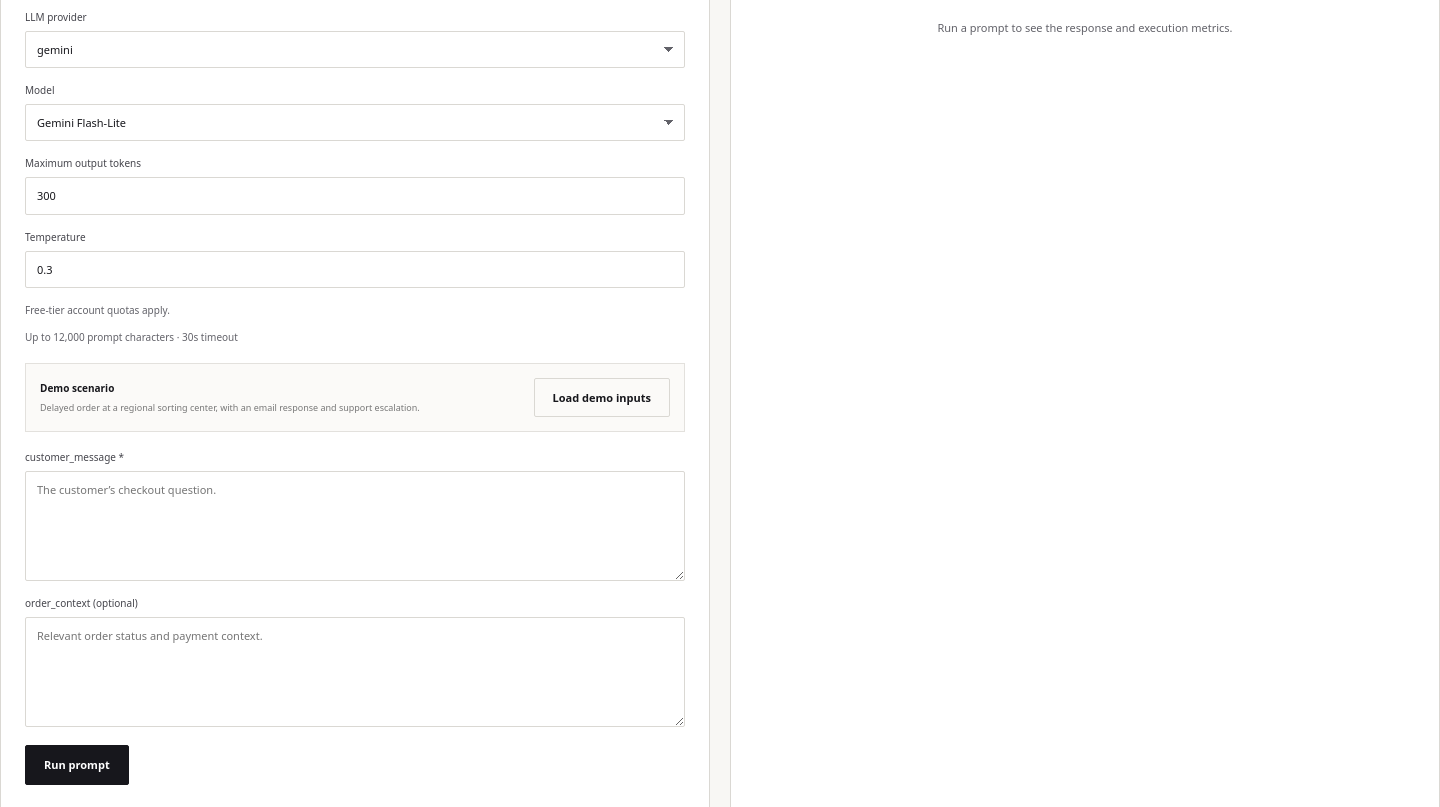
it: Playground run states › shows provider failure without charging
(page scrolled)
Type "Please check my order" into the text box labelled "customer_message *" at (355, 526), box [25,471,685,581]
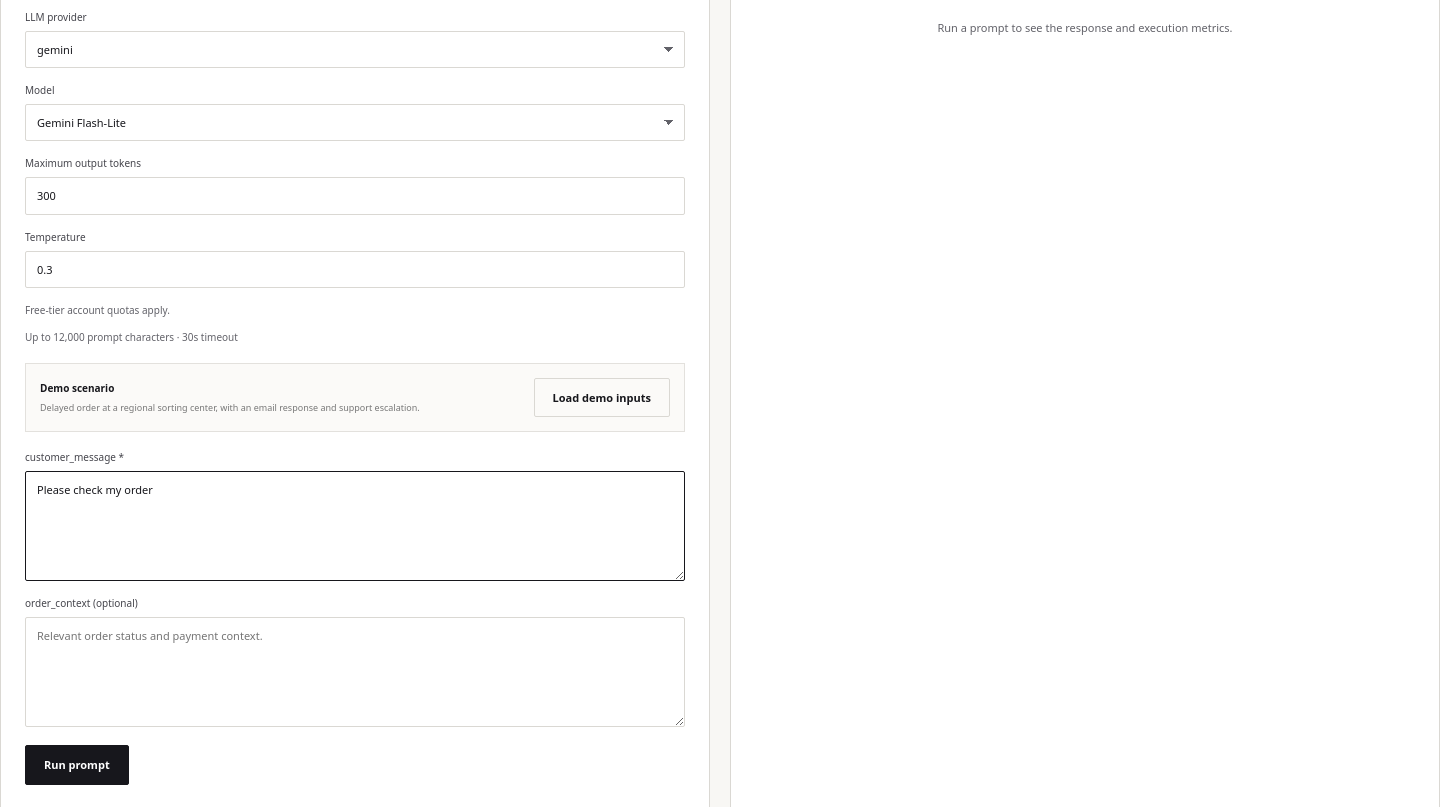
Click the button "Run prompt" at (77, 765), box [25,745,129,785]
(page scrolled)
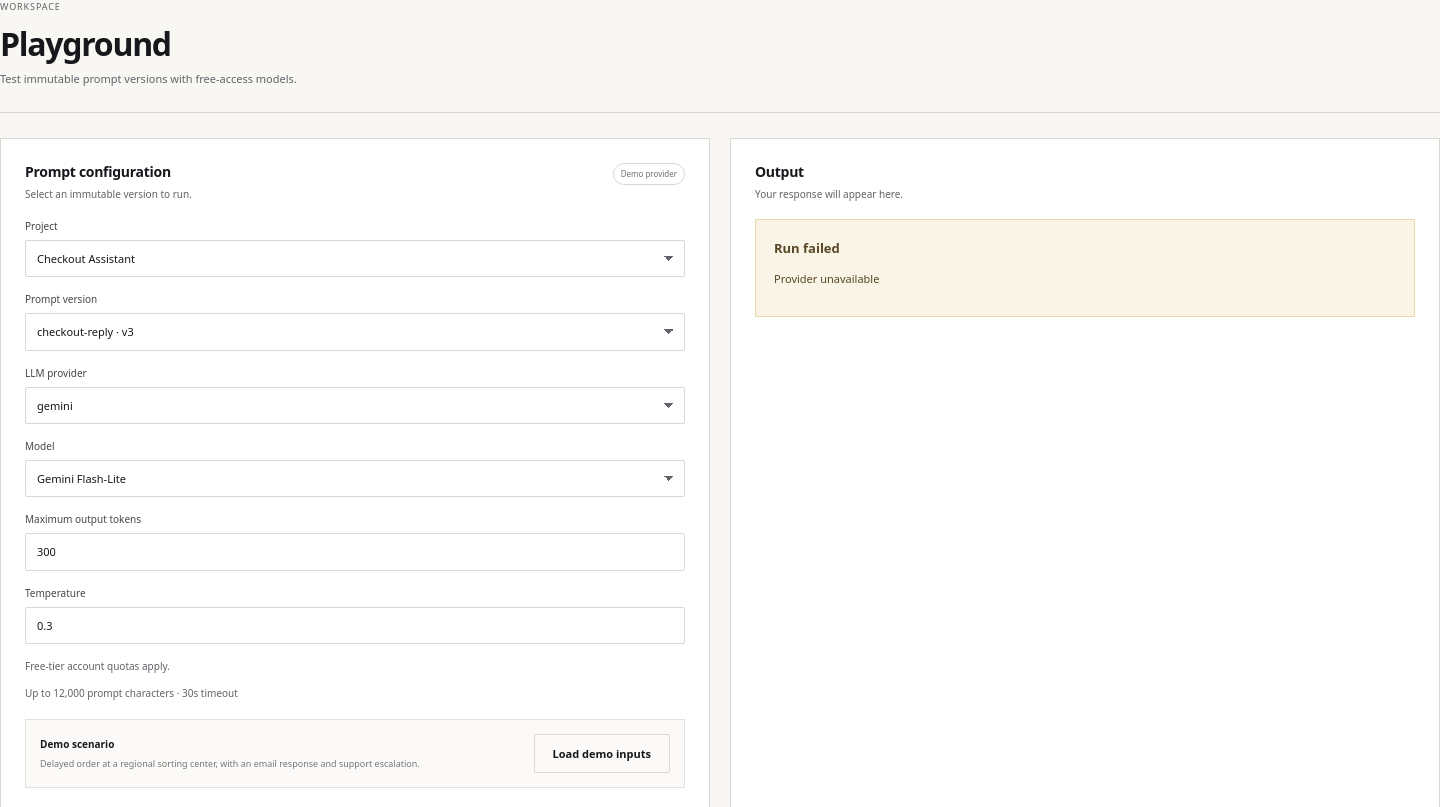
expect the heading "Run failed" is shown: met, box [774,239,840,257]
